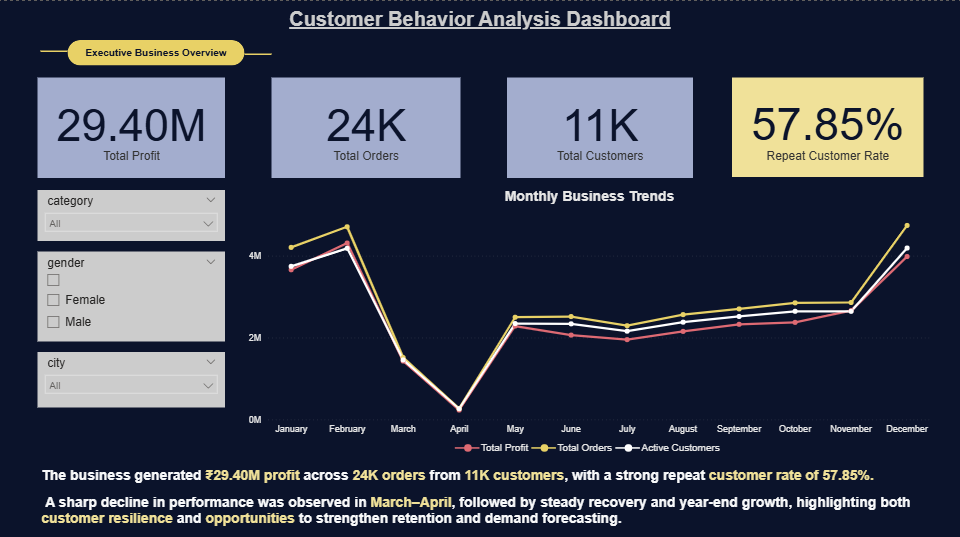

What the dashboard file says about the page in this screenshot:
{"tool":"powerbi","page":{"name":"Overview","canvas":[1280,720],"ordinal":0},"visuals":[{"type":"card","fields":{"Values":["customerCleaned_data.Total Profit"]},"box":[50,102,250,134],"z":0},{"type":"card","fields":{"Values":["customerCleaned_data.Total Orders"]},"box":[362,102,252,134],"z":1000},{"type":"card","fields":{"Values":["customerCleaned_data.Total Customers"]},"box":[676,102,248,134],"z":2000},{"type":"card","fields":{"Values":["customerCleaned_data.Repeat Customer Rate"]},"box":[975,102.5,255,132.5],"z":3000},{"type":"textbox","title":"Customer Behavior Analysis Dashboard","box":[272,0,736,38],"z":4000},{"type":"shape","box":[90,52,236,34],"z":5000},{"type":"shape","box":[326,66,36,10],"z":6000},{"type":"shape","box":[54,62,36,10],"z":7000},{"type":"lineChart","title":"Monthly Business Trends","fields":{"Category":["customerCleaned_data.order_date.Variation.Date Hierarchy.Month"],"Y":["customerCleaned_data.Total Profit"],"Y2":["customerCleaned_data.Total Orders","customerCleaned_data.Active Customers"]},"box":[325,250,920,365],"z":8000},{"type":"slicer","fields":{"Values":["customerCleaned_data.category"]},"box":[50,252,250,68],"z":9000},{"type":"slicer","fields":{"Values":["customerCleaned_data.gender"]},"box":[50,334,250,120],"z":10000},{"type":"slicer","fields":{"Values":["customerCleaned_data.city"]},"box":[50,468,250,74],"z":11000},{"type":"textbox","box":[50,615,1230,105],"z":11001}]}

Visuals, with their boxes in screenshot pixels (x1, y1, x2, y2), scaled from the page's 1280x720 canvas onto the 960x537 screenshot:
card - customerCleaned_data.Total Profit: {"left": 38, "top": 76, "right": 225, "bottom": 176}
card - customerCleaned_data.Total Orders: {"left": 272, "top": 76, "right": 460, "bottom": 176}
card - customerCleaned_data.Total Customers: {"left": 507, "top": 76, "right": 693, "bottom": 176}
card - customerCleaned_data.Repeat Customer Rate: {"left": 731, "top": 76, "right": 922, "bottom": 175}
"Customer Behavior Analysis Dashboard" textbox: {"left": 204, "top": 0, "right": 756, "bottom": 28}
shape: {"left": 68, "top": 39, "right": 244, "bottom": 64}
shape: {"left": 244, "top": 49, "right": 272, "bottom": 57}
shape: {"left": 40, "top": 46, "right": 68, "bottom": 54}
"Monthly Business Trends" lineChart: {"left": 244, "top": 186, "right": 934, "bottom": 459}
slicer - customerCleaned_data.category: {"left": 38, "top": 188, "right": 225, "bottom": 239}
slicer - customerCleaned_data.gender: {"left": 38, "top": 249, "right": 225, "bottom": 339}
slicer - customerCleaned_data.city: {"left": 38, "top": 349, "right": 225, "bottom": 404}
textbox: {"left": 38, "top": 459, "right": 959, "bottom": 536}
